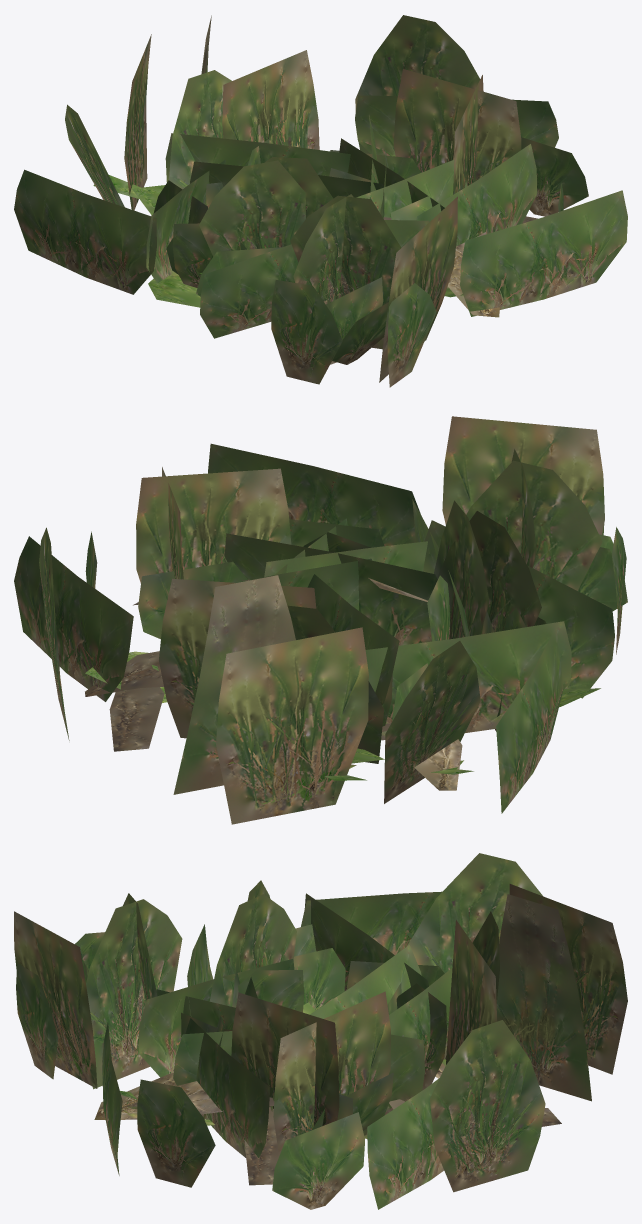
The model's file is Meadow_Grass_01_Var3.FBX.
3 renders of one model, top to bottom at view 1: azimuth 30°, elevation 25°; view 2: azimuth 150°, elevation 25°; view 3: azimuth 270°, elevation 25°, orthographic. The views are drawn at different scales.
Visible parts, largest first — view 1: Meadow_Grass_01_Var3_LOD0; view 2: Meadow_Grass_01_Var3_LOD0; view 3: Meadow_Grass_01_Var3_LOD0.
Boxes of the visible parts, x1,y1,x2,y2 form: Meadow_Grass_01_Var3_LOD0: (14, 15, 627, 387); Meadow_Grass_01_Var3_LOD0: (14, 416, 627, 824); Meadow_Grass_01_Var3_LOD0: (14, 853, 627, 1209).
Size of what is drawn, in the model's own units: 94.83 by 33.84 by 98.36.
